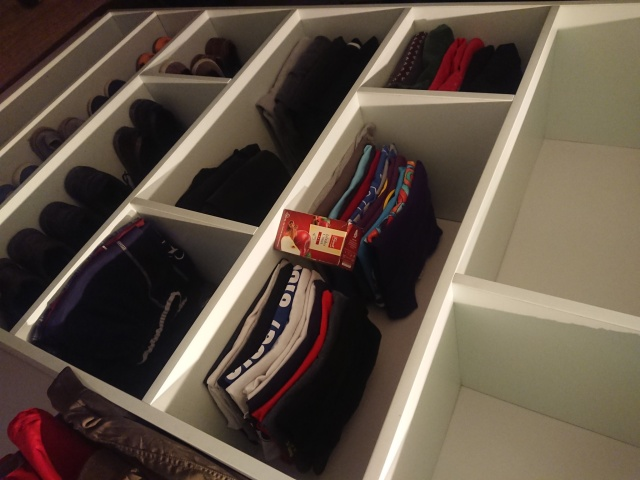Franck Apple Cinnamon Tea 60g: (271, 207, 365, 271)
